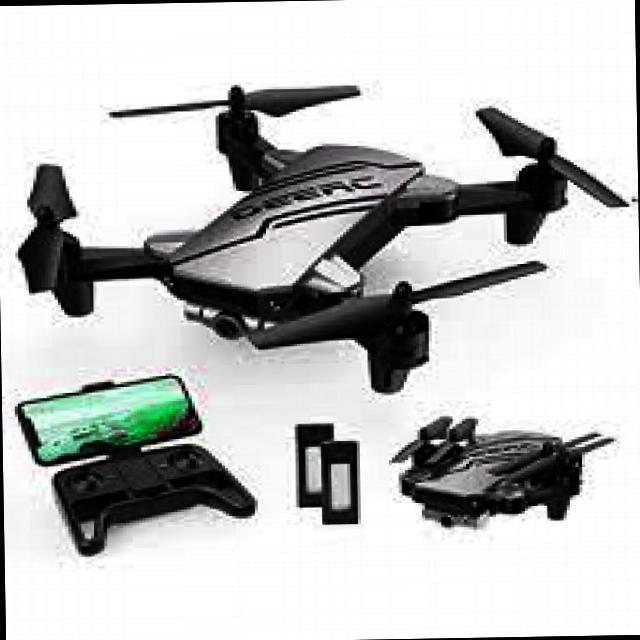drone: (0, 65, 640, 403)
